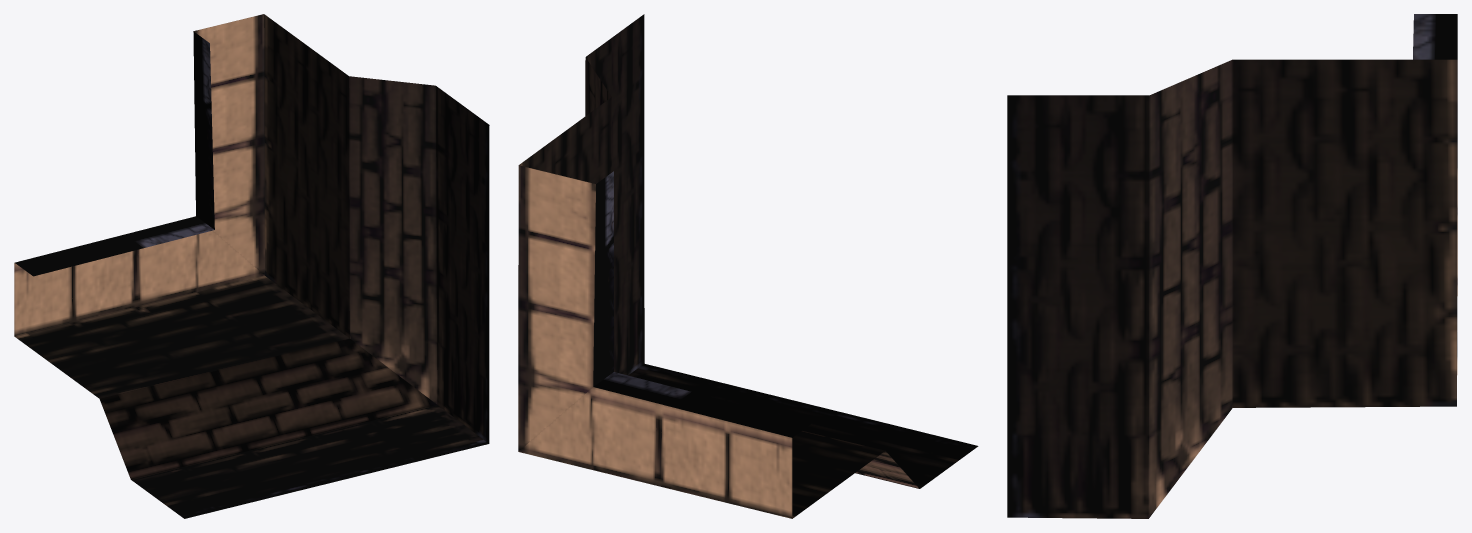
The model's file is ex_NewOutCorner.obj.
The picture shows the model from 3 angles, left to right: view 1: azimuth 30°, elevation 25°; view 2: azimuth 150°, elevation 25°; view 3: azimuth 270°, elevation 25°; orthographic projection. The views are drawn at different scales.
Visible parts, largest first — view 1: ex_OutCorner3.001_Plane; view 2: ex_OutCorner3.001_Plane; view 3: ex_OutCorner3.001_Plane.
Boxes of the visible parts, x1,y1,x2,y2 form: ex_OutCorner3.001_Plane: (14,14,489,518); ex_OutCorner3.001_Plane: (518,14,978,518); ex_OutCorner3.001_Plane: (1007,14,1457,518).
Bounding box in the file's own units: 141 × 141 × 136.
